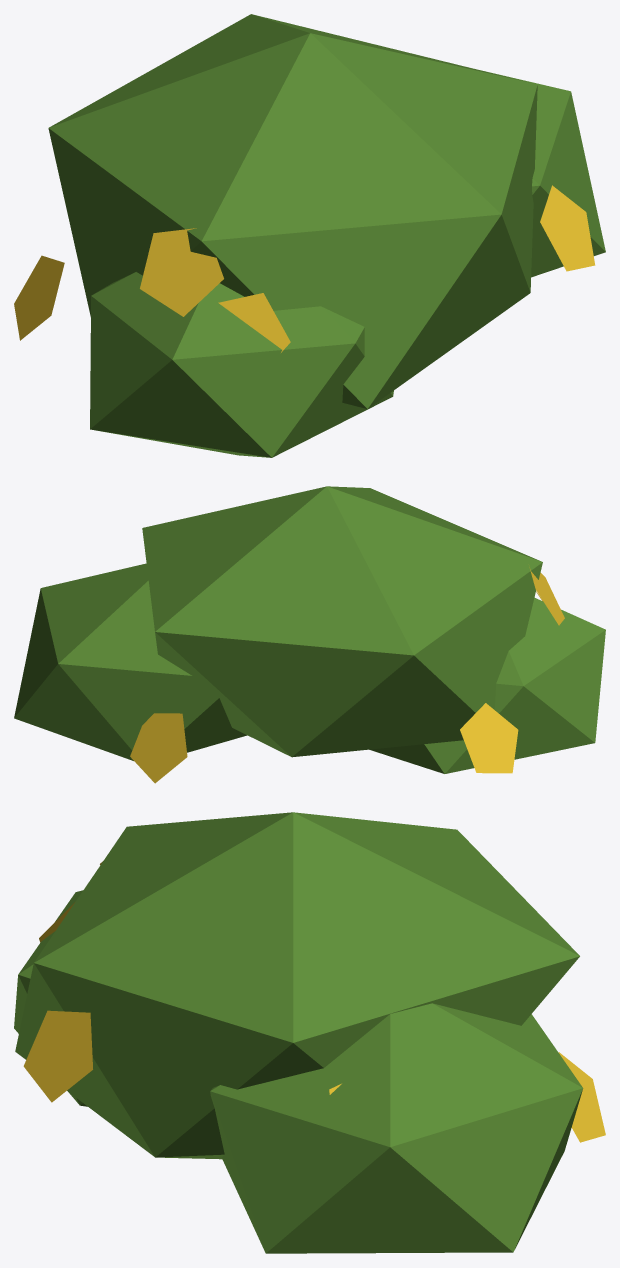
Rendered from genet.glb.
3 views of the same model, one above another, from view 1: azimuth 30°, elevation 25°; view 2: azimuth 150°, elevation 25°; view 3: azimuth 270°, elevation 25° (orthographic). The views are drawn at different scales.
Parts seen in each view (by area): view 1: genet; view 2: genet; view 3: genet.
Boxes of the visible parts, <box> form: genet: <box>14,14,605,457</box>; genet: <box>14,486,605,783</box>; genet: <box>14,812,605,1253</box>.
Bounding box in the file's own units: 1.65 × 0.9523 × 1.37.
1 material, 1 textured.
